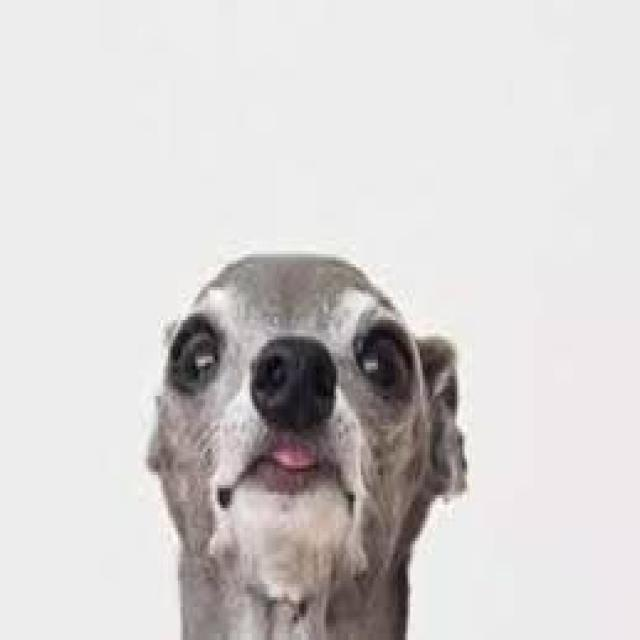Dog: (84, 184, 492, 640)
